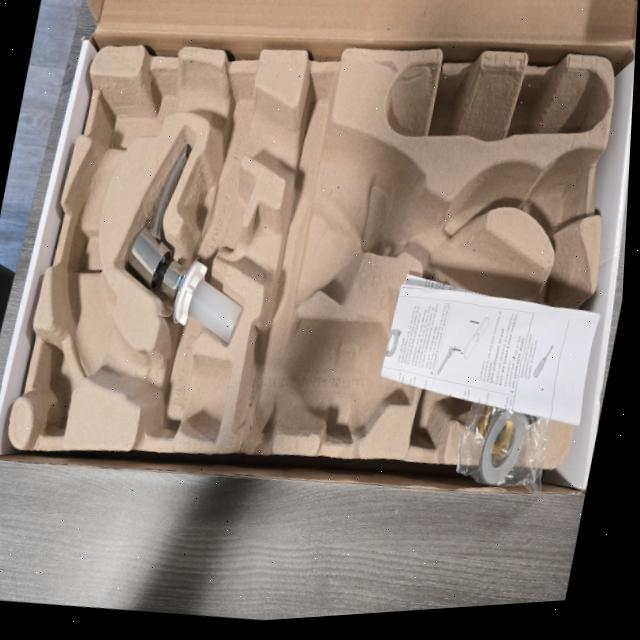1m: (56, 57, 590, 437)
2: (129, 140, 244, 345)
3m: (233, 326, 419, 439)
4m: (384, 66, 611, 140)
5m: (528, 160, 580, 230)
6o: (458, 323, 550, 495)
7m: (414, 319, 472, 449)
8: (381, 270, 601, 428)
